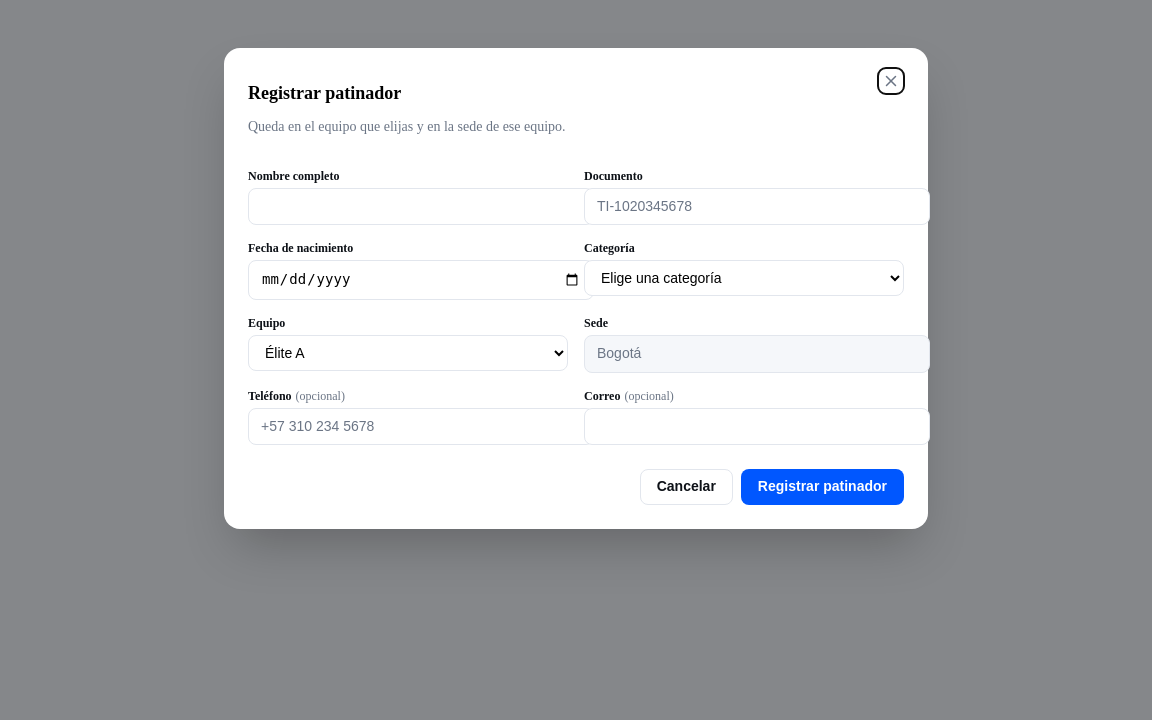
it: SkaterFormModal › explica un 400 de talentms
Type "Ana Demo" into the field labelled "Nombre completo". click: (421, 207)
box: [248,188,594,226]
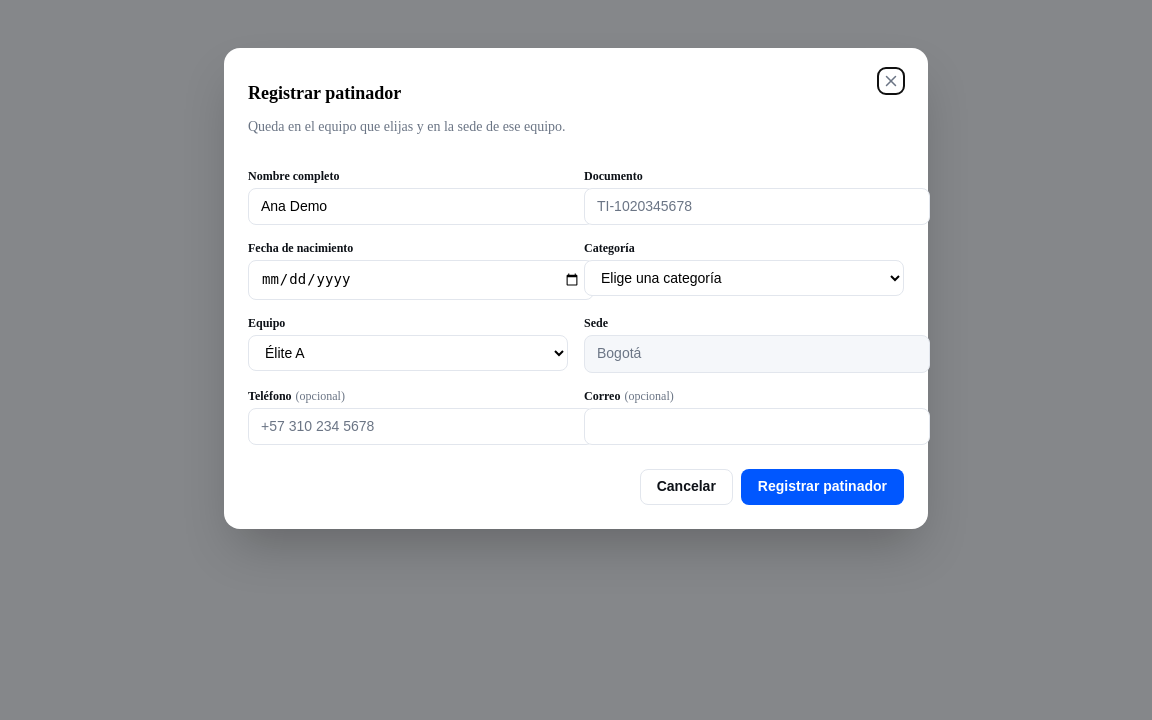
Type "DEMO-001" into the field labelled "Documento". click: (757, 207)
box: [584,188,930,226]
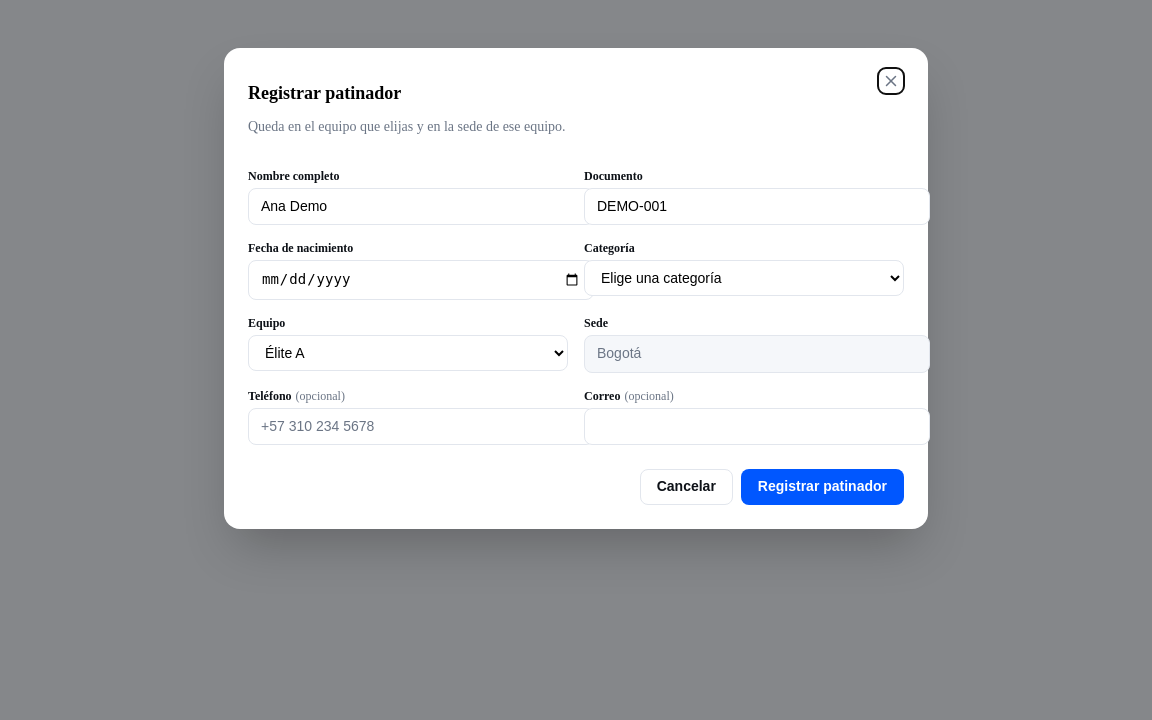
Type "2015-03-10" into the date field labelled "Fecha de nacimiento". click: (421, 280)
box: [248,260,594,300]
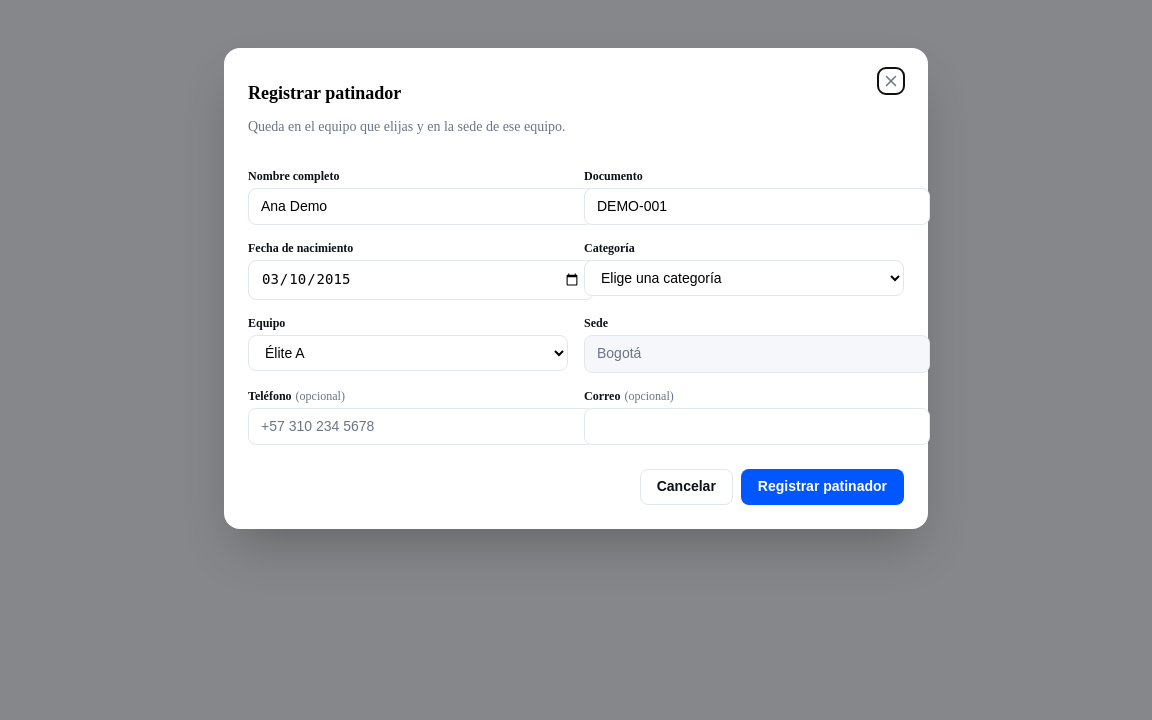
Select "Juvenil" in the dropdown labelled "Categoría". click: (744, 278)
box: [584,260,904,296]
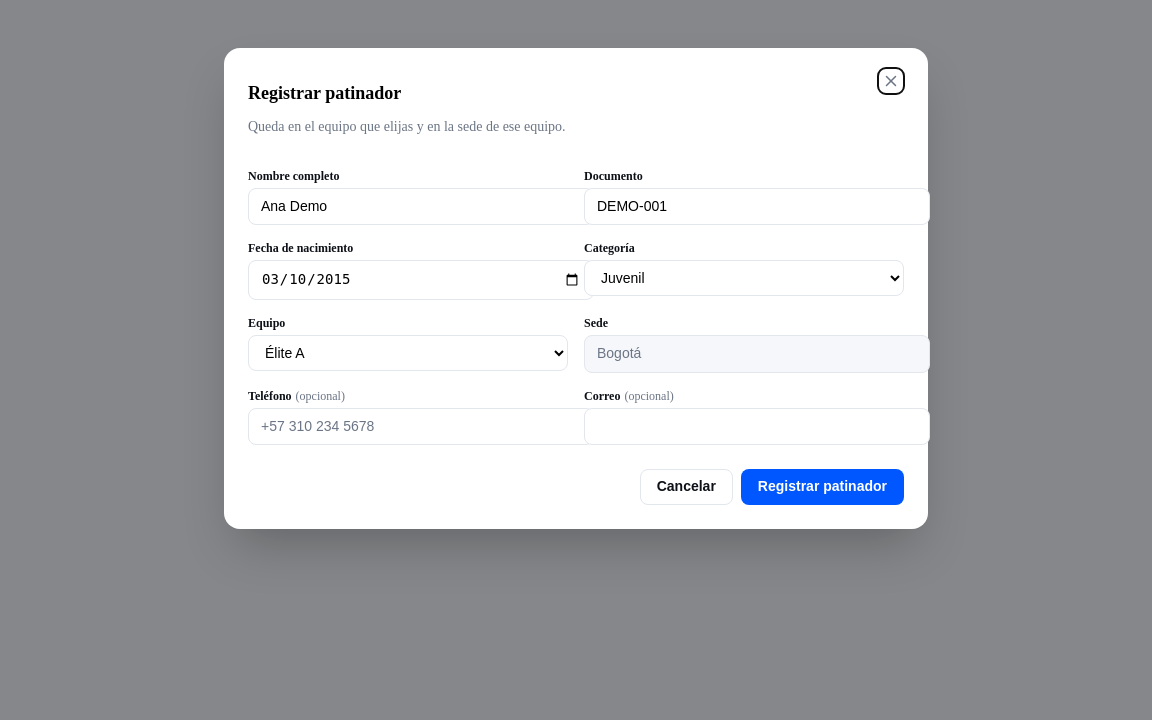
Click the button "Registrar patinador". click: (822, 487)
box: [741,469,904,505]
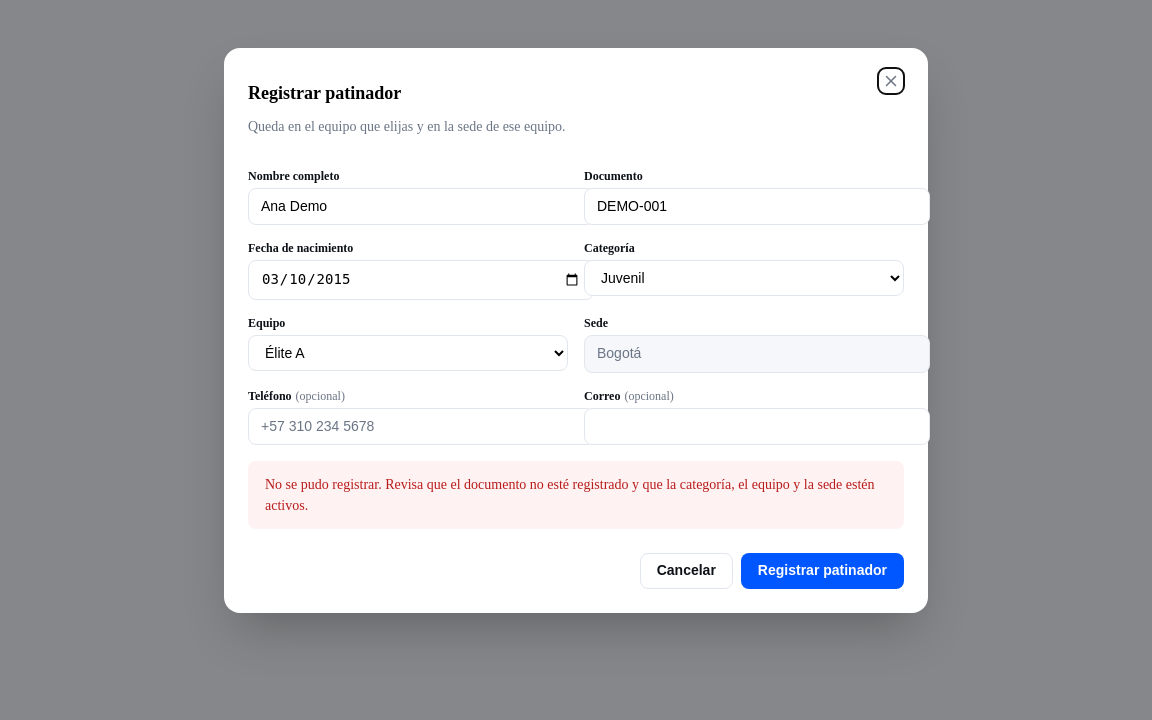
Result: the message shows "el documento no esté registrado" at [265,477,875,513]
